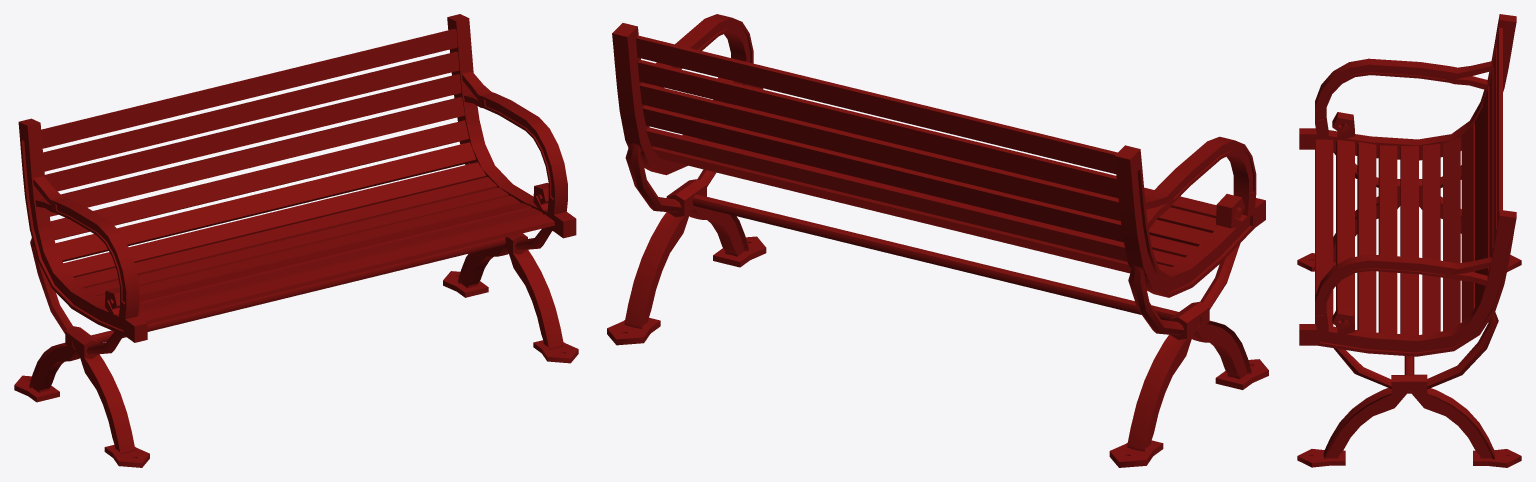
Rendered from bench.obj.
3 renders of one model, left to right at view 1: azimuth 30°, elevation 25°; view 2: azimuth 150°, elevation 25°; view 3: azimuth 270°, elevation 25°, orthographic. The views are drawn at different scales.
Visible parts, largest first — view 1: Bench_LowRes; view 2: Bench_LowRes; view 3: Bench_LowRes.
Part boxes in pixels (<box>): Bench_LowRes: <box>14,14,578,467</box>; Bench_LowRes: <box>607,14,1268,467</box>; Bench_LowRes: <box>1297,14,1521,467</box>.
Bounding box in the file's own units: 17.61 × 9.69 × 7.94.
